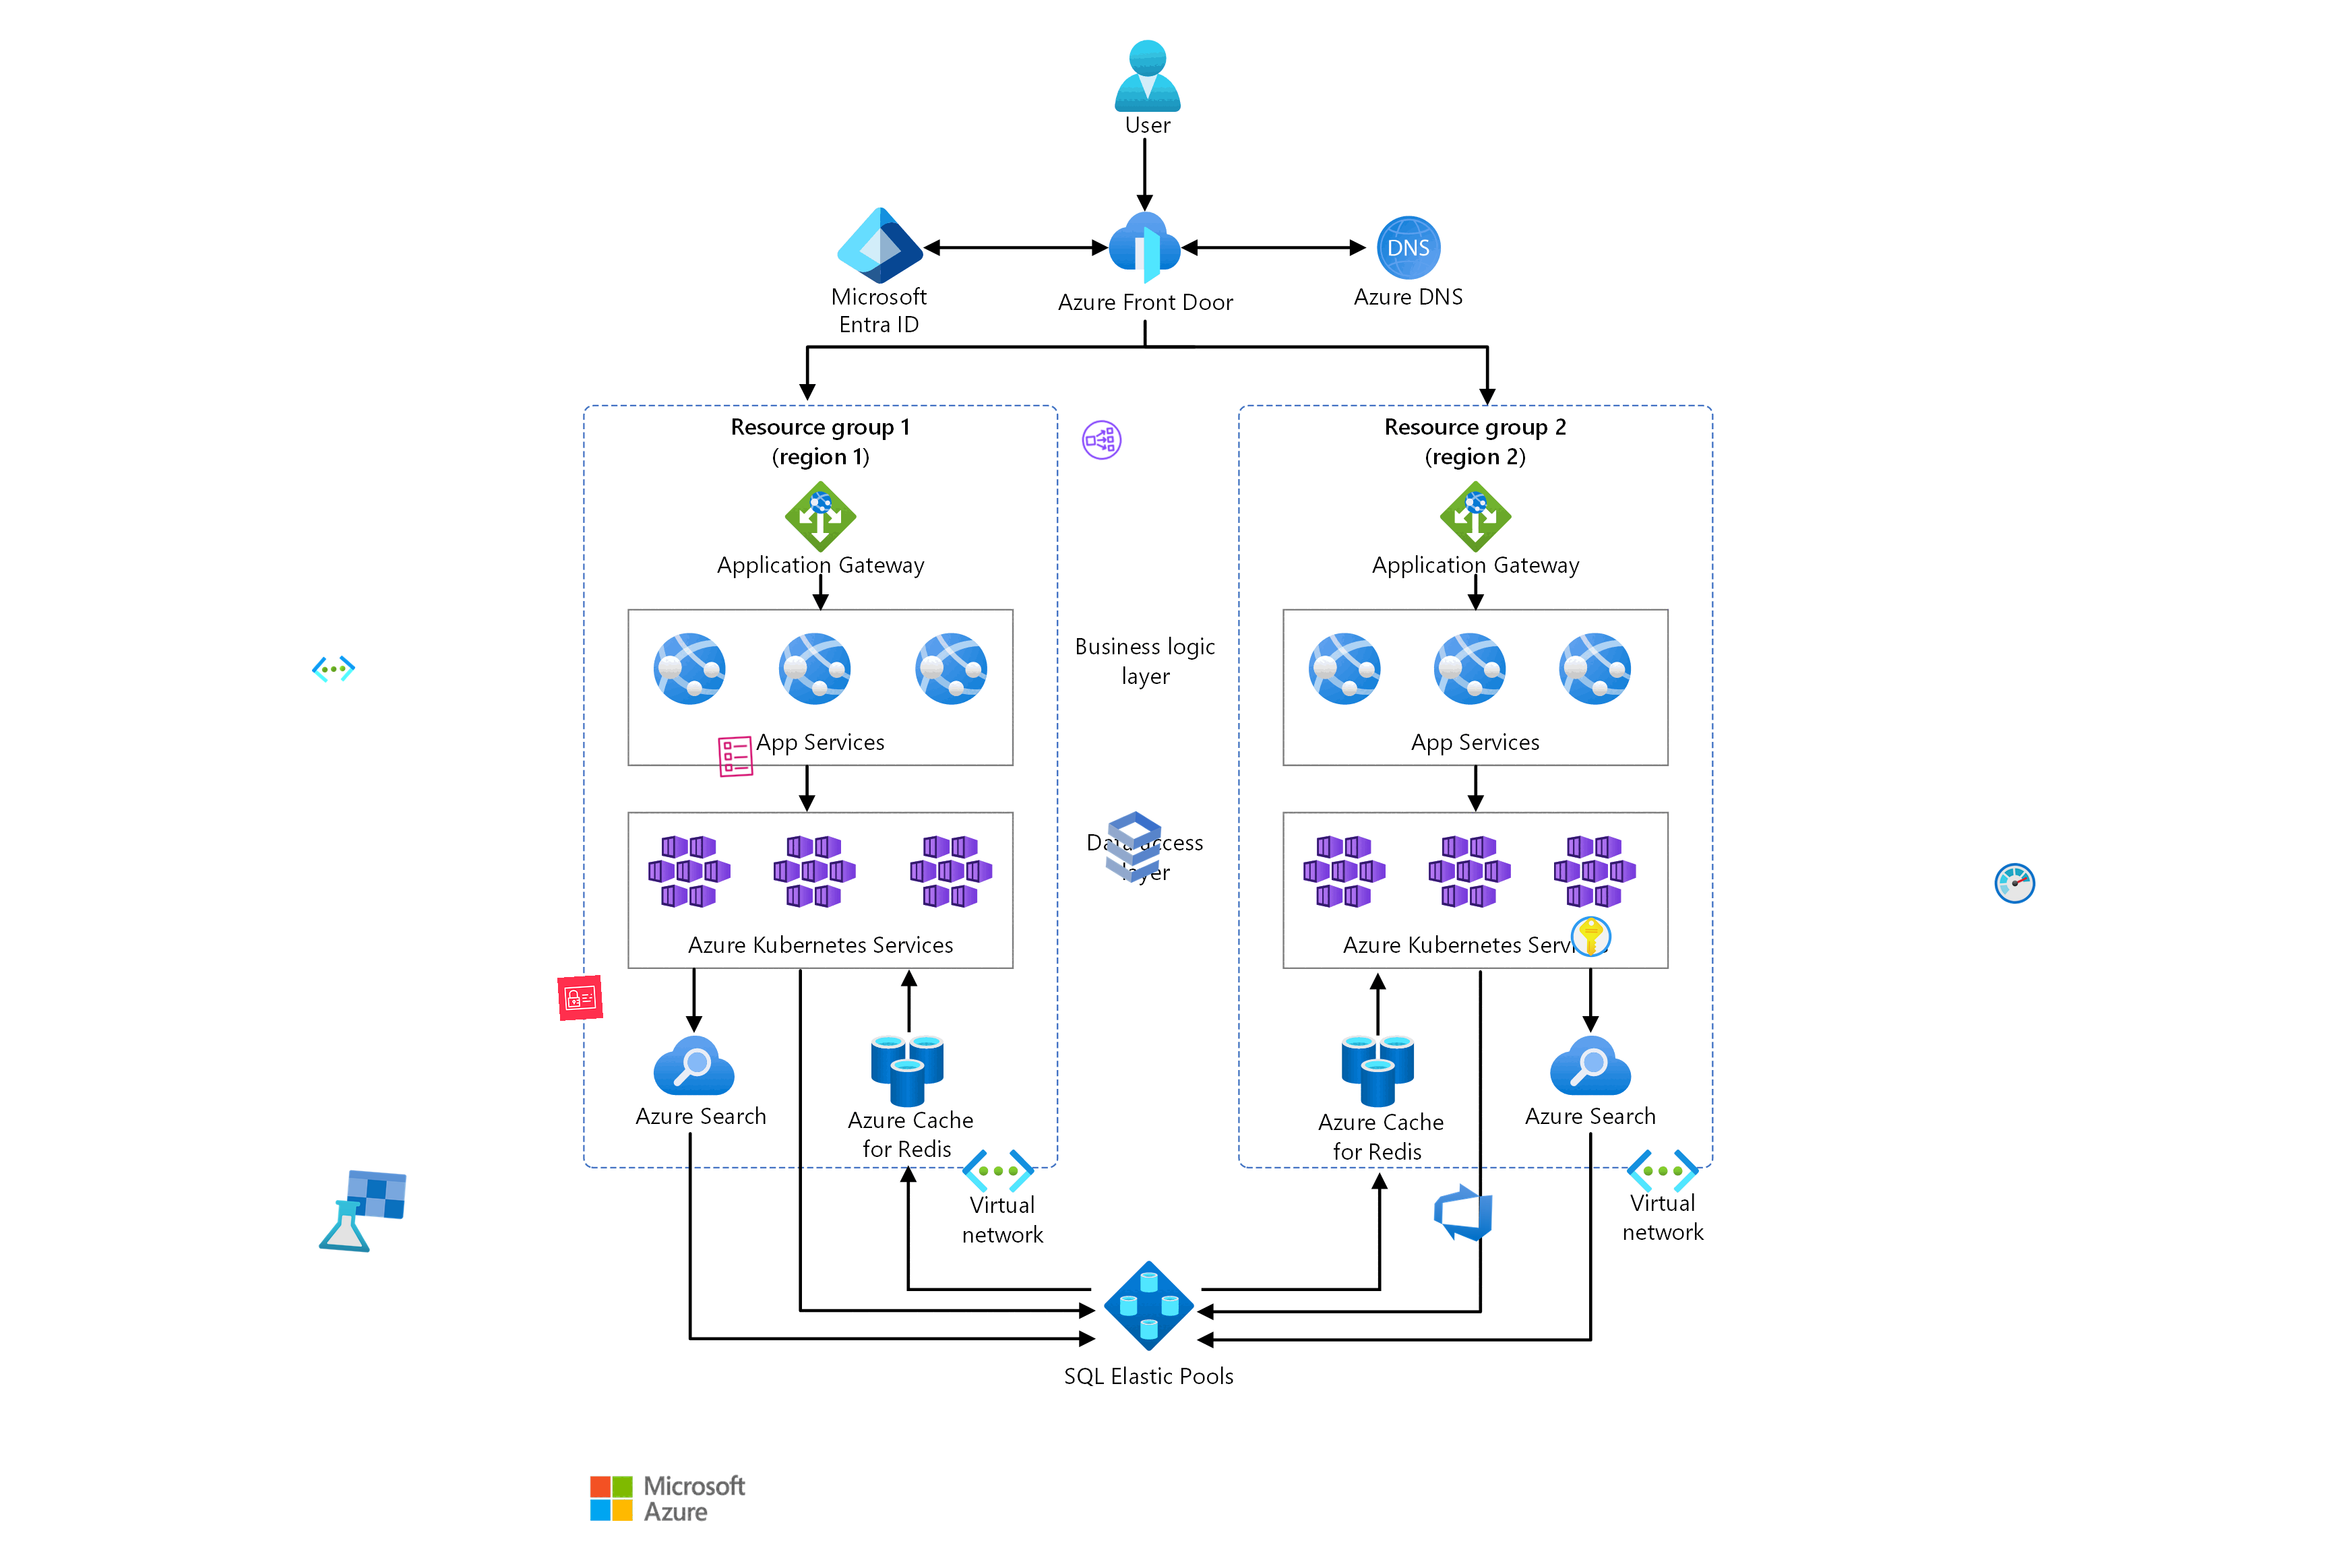aws_cloudformation_template: (712, 733, 758, 779)
aws_elastic_load_balancing_network_load_balancer: (1078, 416, 1125, 464)
aws_identity_and_access_management: (556, 975, 604, 1022)
azure_devops: (1430, 1178, 1496, 1246)
azure_key_vaults: (1570, 915, 1613, 959)
azure_machine_learning_studio_workspaces: (317, 1165, 410, 1258)
azure_monitor: (1991, 859, 2039, 906)
azure_virtual_networks: (310, 646, 357, 693)
gcp_cloud_sql: (1087, 800, 1179, 894)
